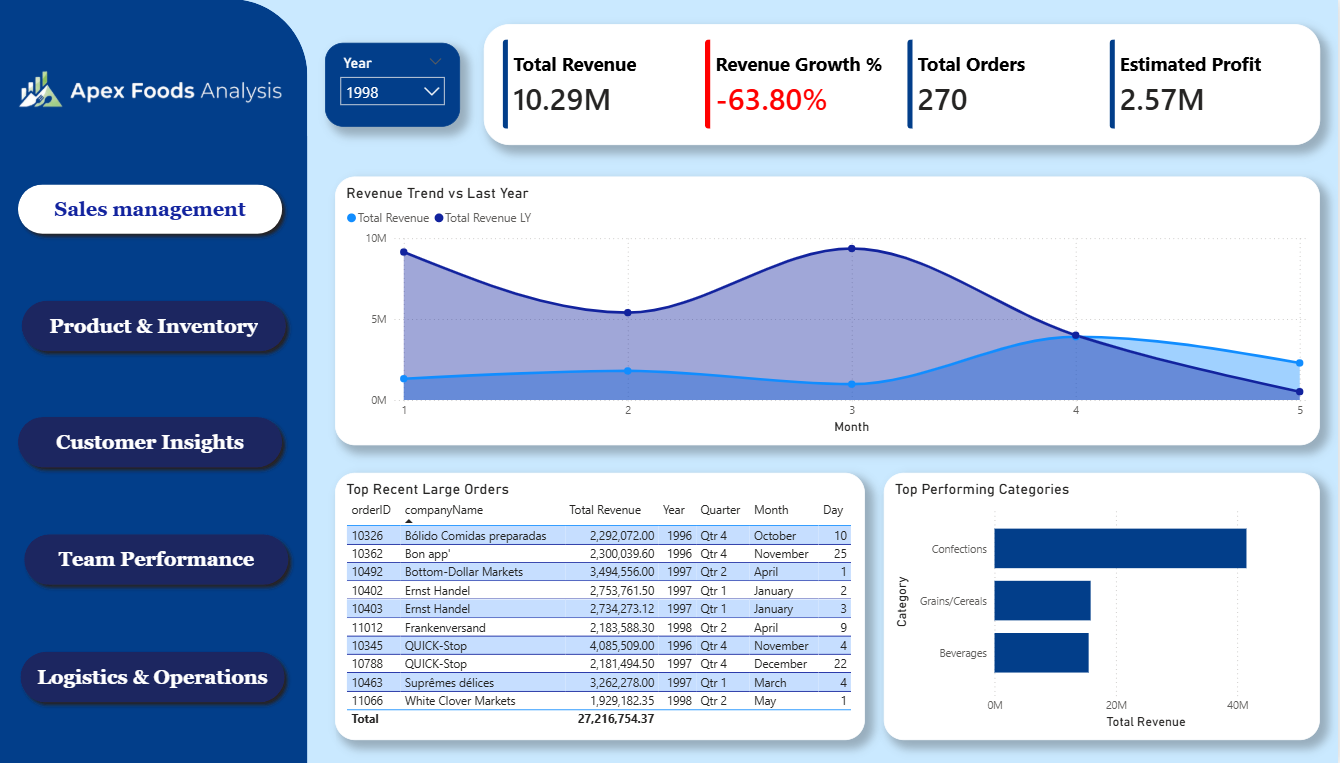

The dashboard page shown, as its layout file describes it:
{"tool":"powerbi","page":{"name":"Sales management","canvas":[1530,875],"ordinal":0},"visuals":[{"type":"shape","title":"FlyOut","box":[0,0,351.4,875.7],"z":0},{"type":"actionButton","title":"Product","box":[13.7,737.1,320,75.7],"z":1000},{"type":"actionButton","title":"Quantity","box":[18,603.2,320,75.7],"z":2000},{"type":"actionButton","title":"Profit","box":[11.4,469.3,320,75.7],"z":3000},{"type":"areaChart","title":"Revenue Trend vs Last Year","fields":{"Category":["DateTable.Month"],"Y":["Dax_Measures.Total Revenue","Dax_Measures.Total Revenue LY"]},"box":[382.9,202.9,1125.7,307.1],"z":4000},{"type":"actionButton","title":"Sales","box":[15.7,335.4,320,75.7],"z":5000},{"type":"clusteredBarChart","title":"Top Performing Categories","fields":{"Category":["CategoryDim.categoryName"],"Y":["Dax_Measures.Total Revenue"]},"box":[1010,541.4,498.6,305.7],"z":6000},{"type":"actionButton","title":"KPIs","box":[11.4,202.9,320,74.3],"z":7000},{"type":"tableEx","title":"Top Recent Large Orders","fields":{"Values":["OrderFact.orderID","CustomersDim.companyName","Dax_Measures.Total Revenue","DateTable.Date.Variation.Date Hierarchy.Year","DateTable.Date.Variation.Date Hierarchy.Quarter","DateTable.Date.Variation.Date Hierarchy.Month","DateTable.Date.Variation.Date Hierarchy.Day"]},"box":[382.9,541.4,605.7,305.7],"z":8000},{"type":"cardVisual","fields":{"Data":["Dax_Measures.Total Revenue","Dax_Measures.Revenue Growth %","Dax_Measures.Total Orders","Dax_Measures.Estimated Profit"]},"box":[552.9,28.6,955.7,138.6],"z":9000},{"type":"image","box":[16.7,28.3,308.3,148.3],"z":10000},{"type":"slicer","fields":{"Values":["DateTable.Year"]},"box":[371.4,50,154.3,95.7],"z":11002}]}

Visuals, with their boxes in screenshot pixels (x1, y1, x2, y2), scaled from the page's 1530x875 canvas onto the 1340x763 screenshot:
"FlyOut" shape: {"x1": 0, "y1": 0, "x2": 308, "y2": 762}
"Product" actionButton: {"x1": 12, "y1": 643, "x2": 292, "y2": 709}
"Quantity" actionButton: {"x1": 16, "y1": 526, "x2": 296, "y2": 592}
"Profit" actionButton: {"x1": 10, "y1": 409, "x2": 290, "y2": 475}
"Revenue Trend vs Last Year" areaChart: {"x1": 335, "y1": 177, "x2": 1321, "y2": 445}
"Sales" actionButton: {"x1": 14, "y1": 292, "x2": 294, "y2": 358}
"Top Performing Categories" clusteredBarChart: {"x1": 885, "y1": 472, "x2": 1321, "y2": 739}
"KPIs" actionButton: {"x1": 10, "y1": 177, "x2": 290, "y2": 242}
"Top Recent Large Orders" tableEx: {"x1": 335, "y1": 472, "x2": 866, "y2": 739}
cardVisual - Dax_Measures.Total Revenue x Dax_Measures.Revenue Growth %: {"x1": 484, "y1": 25, "x2": 1321, "y2": 146}
image: {"x1": 15, "y1": 25, "x2": 285, "y2": 154}
slicer - DateTable.Year: {"x1": 325, "y1": 44, "x2": 460, "y2": 127}
